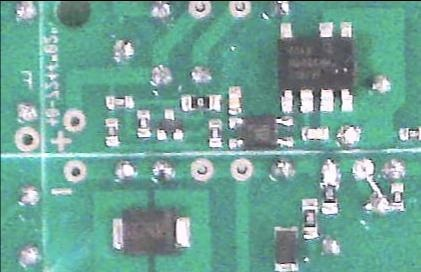chip-capacitor: (298, 123, 331, 141), (225, 84, 243, 116)
chip-resistor: (180, 92, 223, 112), (320, 175, 340, 214), (300, 198, 317, 239), (205, 115, 224, 149), (134, 107, 153, 139), (103, 116, 120, 148), (104, 94, 135, 111), (388, 181, 405, 210), (396, 125, 421, 141)
diode: (110, 204, 192, 257), (271, 223, 299, 271)
ic: (274, 20, 359, 115), (226, 114, 294, 151)
transistor: (155, 107, 184, 141)
